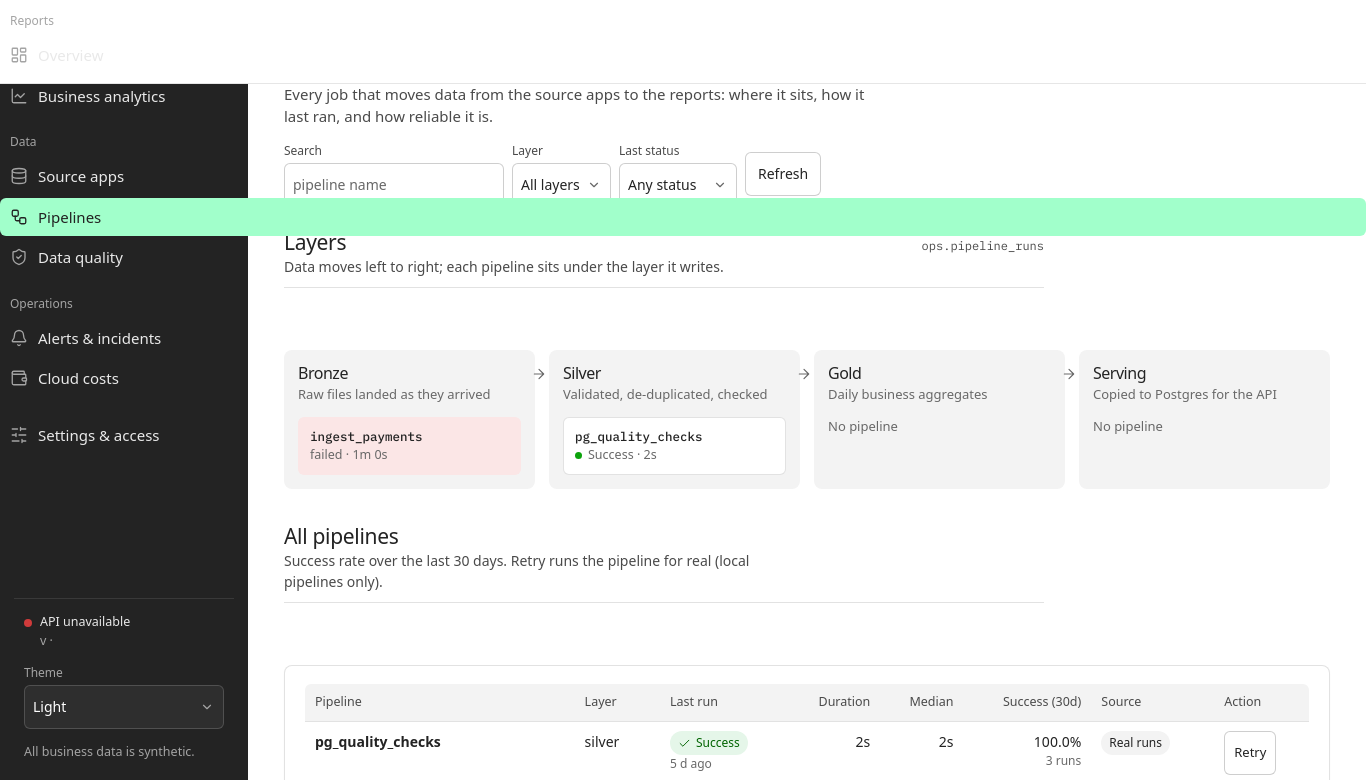
it: Pipelines page › retries a local pipeline and reports the API response
This screenshot has width=1366, height=780.
What coordinates should you click on to do the following:
click the button "Retry"
I would click on:
 (1250, 753)
Its box is [1224,731,1276,775].
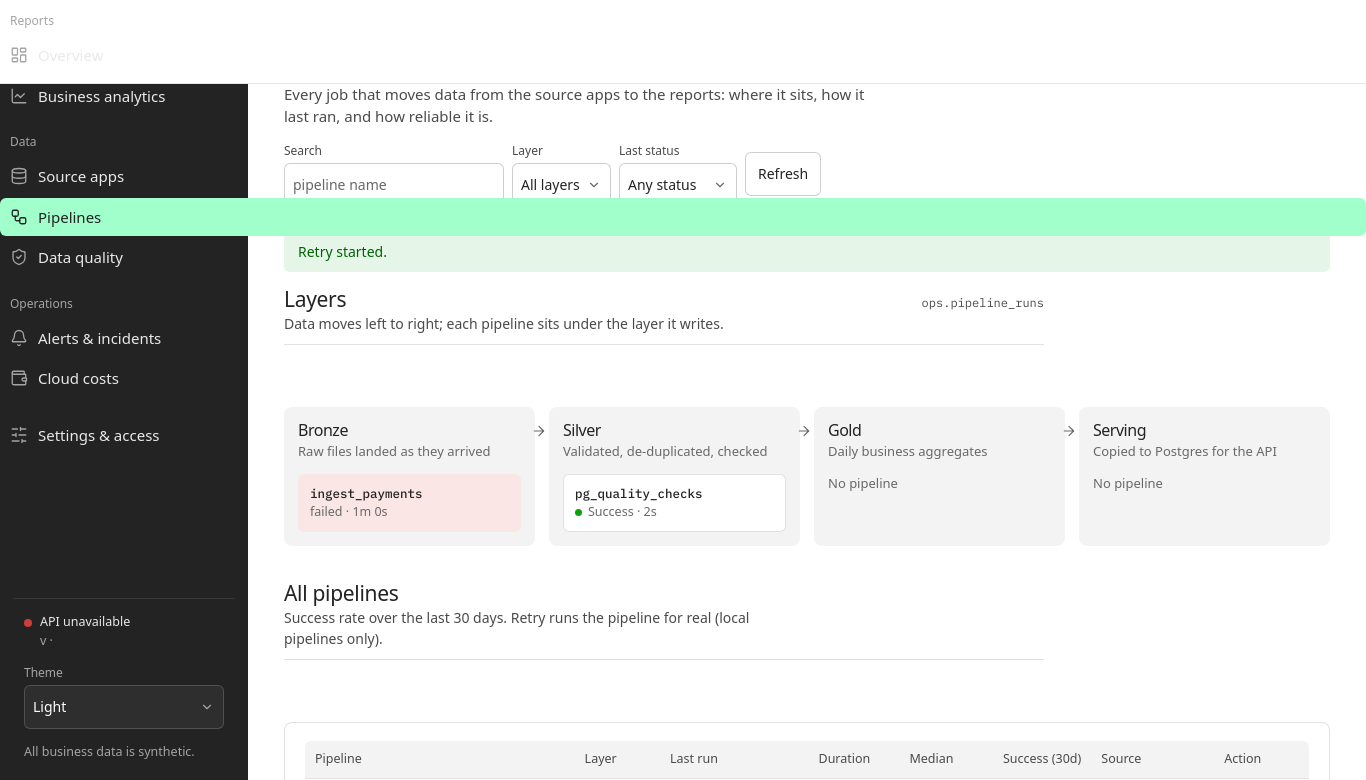
Now the text "Retry started." is shown, box [284,231,1330,272]
